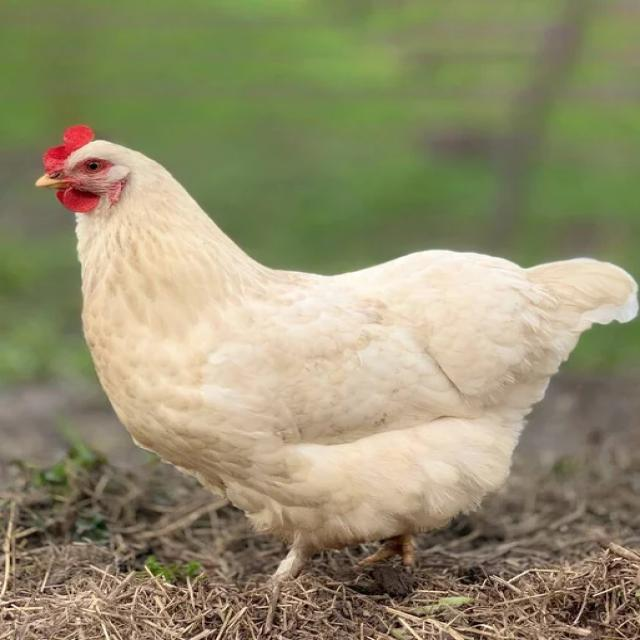Chicken: (32, 111, 633, 604)
